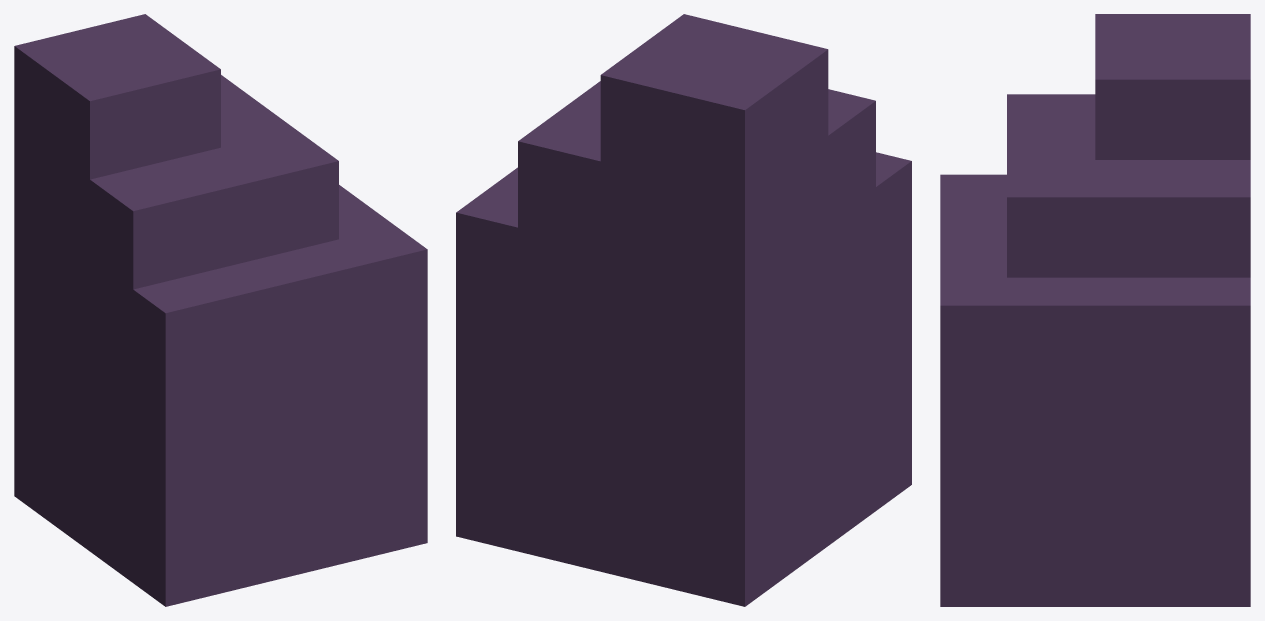
File: Level3Crystal_4.dae
The picture shows the model from 3 angles, left to right: view 1: azimuth 30°, elevation 25°; view 2: azimuth 150°, elevation 25°; view 3: azimuth 270°, elevation 25°; orthographic projection. The views are drawn at different scales.
Parts seen in each view (by area): view 1: Level3Crystal_4; view 2: Level3Crystal_4; view 3: Level3Crystal_4.
Part boxes in pixels (x1,y1,x2,y2): Level3Crystal_4: (14,14,427,606); Level3Crystal_4: (456,14,911,606); Level3Crystal_4: (940,14,1250,606).
Bounding box in the file's own units: 1.4 × 2.3 × 1.4.
Materials: 1 (1 with a texture image).
